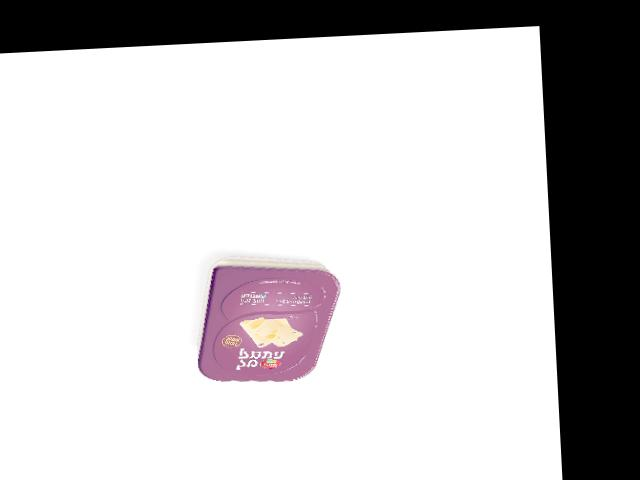cheese: (192, 251, 345, 386)
